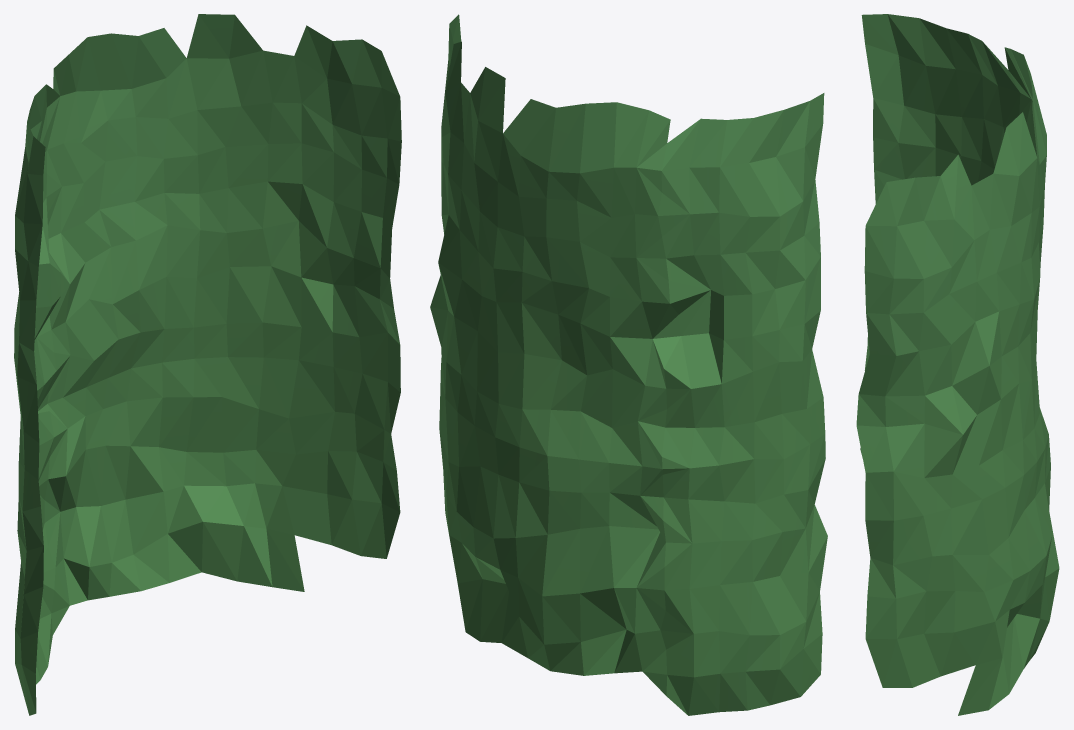
The model's file is Map_prop_03.FBX.
3 views of the same model, side by side, from view 1: azimuth 30°, elevation 25°; view 2: azimuth 150°, elevation 25°; view 3: azimuth 270°, elevation 25° (orthographic).
Parts seen in each view (by area): view 1: Map_prop_03; view 2: Map_prop_03; view 3: Map_prop_03.
Part boxes in pixels (x1,y1,x2,y2): Map_prop_03: [14, 14, 401, 715]; Map_prop_03: [430, 14, 827, 715]; Map_prop_03: [856, 14, 1059, 715].
Size of the model in its own units: 11.19 by 17.84 by 5.46.
